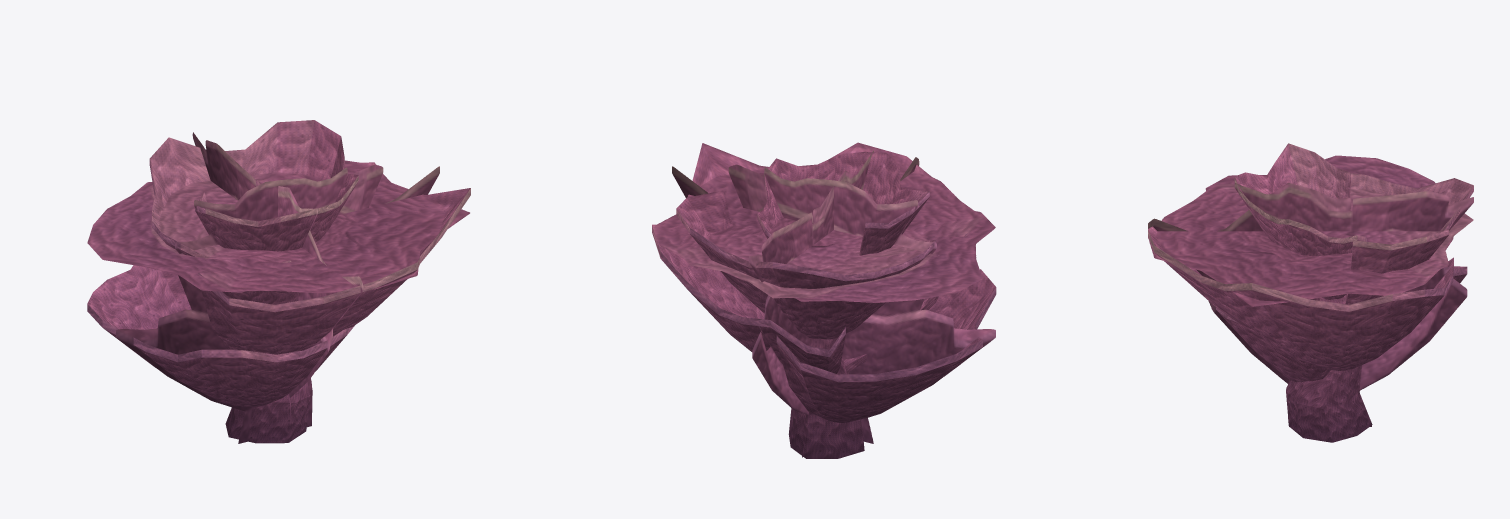
The model's file is Coral-06-Espiral-Malva.glb.
The picture shows the model from 3 angles, left to right: view 1: azimuth 30°, elevation 25°; view 2: azimuth 150°, elevation 25°; view 3: azimuth 270°, elevation 25°; orthographic projection. The views are drawn at different scales.
Visible parts, largest first — view 1: Colonia, Coral-06-Espiral-Malva impostor; view 2: Coral-06-Espiral-Malva impostor, Colonia; view 3: Colonia, Coral-06-Espiral-Malva impostor.
Boxes of the visible parts, x1,y1,x2,y2 form: Colonia: [87, 120, 470, 443]; Coral-06-Espiral-Malva impostor: [87, 132, 469, 443]; Coral-06-Espiral-Malva impostor: [654, 150, 995, 457]; Colonia: [652, 142, 996, 458]; Colonia: [1148, 143, 1473, 442]; Coral-06-Espiral-Malva impostor: [1148, 155, 1473, 426].
Size of what is drawn, in the model's own units: 1.13 by 1.13 by 1.13.
Materials: 2 (2 with a texture image).
